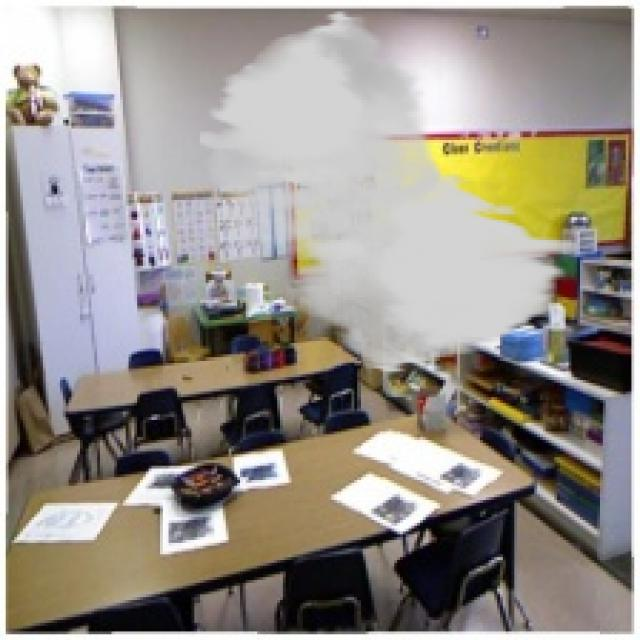smoke: (197, 9, 577, 374)
